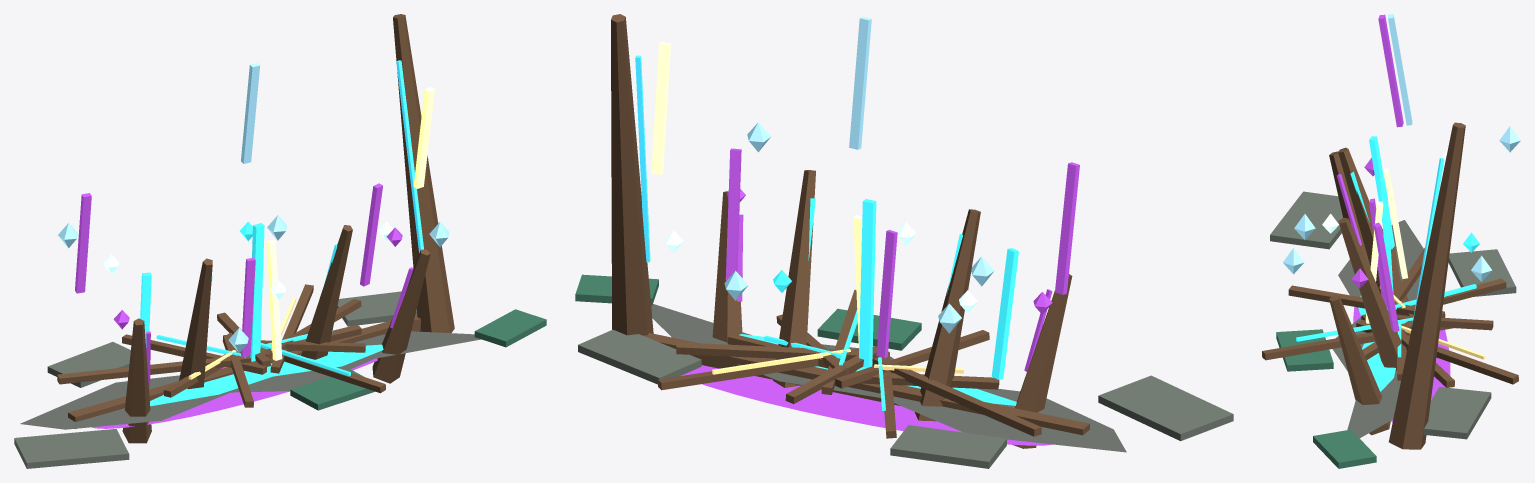
The model's file is memory_wastes_worldroot_rift.glb.
3 views of the same model, side by side, from view 1: azimuth 30°, elevation 25°; view 2: azimuth 150°, elevation 25°; view 3: azimuth 270°, elevation 25° (orthographic). The views are drawn at different scales.
Parts seen in each view (by area): view 1: PREFAB_memory_wastes_worldroot_rift_00_WASTE_RootRiftsAndSto, PREFAB_memory_wastes_worldroot_rift_12_WASTE_RootRiftsAndSto, PREFAB_memory_wastes_worldroot_rift_02_WASTE_RootRiftsAndSto, PREFAB_memory_wastes_worldroot_rift_20_WASTE_RootRiftsAndSto, PREFAB_memory_wastes_worldroot_rift_14_WASTE_RootRiftsAndSto, PREFAB_memory_wastes_worldroot_rift_18_WASTE_RootRiftsAndSto, PREFAB_memory_wastes_worldroot_rift_01_WASTE_RootRiftsAndSto, PREFAB_memory_wastes_worldroot_rift_16_WASTE_RootRiftsAndSto, PREFAB_memory_wastes_worldroot_rift_08_WASTE_RootRiftsAndSto, PREFAB_memory_wastes_worldroot_rift_03_WASTE_RootRiftsAndSto, PREFAB_memory_wastes_worldroot_rift_04_WASTE_RootRiftsAndSto, PREFAB_memory_wastes_worldroot_rift_06_WASTE_RootRiftsAndSto (+18 smaller); view 2: PREFAB_memory_wastes_worldroot_rift_12_WASTE_RootRiftsAndSto, PREFAB_memory_wastes_worldroot_rift_00_WASTE_RootRiftsAndSto, PREFAB_memory_wastes_worldroot_rift_02_WASTE_RootRiftsAndSto, PREFAB_memory_wastes_worldroot_rift_07_WASTE_RootRiftsAndSto, PREFAB_memory_wastes_worldroot_rift_16_WASTE_RootRiftsAndSto, PREFAB_memory_wastes_worldroot_rift_05_WASTE_RootRiftsAndSto, PREFAB_memory_wastes_worldroot_rift_18_WASTE_RootRiftsAndSto, PREFAB_memory_wastes_worldroot_rift_08_WASTE_RootRiftsAndSto, PREFAB_memory_wastes_worldroot_rift_03_WASTE_RootRiftsAndSto, PREFAB_memory_wastes_worldroot_rift_14_WASTE_RootRiftsAndSto, PREFAB_memory_wastes_worldroot_rift_09_WASTE_RootRiftsAndSto, PREFAB_memory_wastes_worldroot_rift_30_WASTE_RootRiftsAndSto (+20 smaller); view 3: PREFAB_memory_wastes_worldroot_rift_12_WASTE_RootRiftsAndSto, PREFAB_memory_wastes_worldroot_rift_00_WASTE_RootRiftsAndSto, PREFAB_memory_wastes_worldroot_rift_18_WASTE_RootRiftsAndSto, PREFAB_memory_wastes_worldroot_rift_05_WASTE_RootRiftsAndSto, PREFAB_memory_wastes_worldroot_rift_02_WASTE_RootRiftsAndSto, PREFAB_memory_wastes_worldroot_rift_20_WASTE_RootRiftsAndSto, PREFAB_memory_wastes_worldroot_rift_03_WASTE_RootRiftsAndSto, PREFAB_memory_wastes_worldroot_rift_16_WASTE_RootRiftsAndSto, PREFAB_memory_wastes_worldroot_rift_06_WASTE_RootRiftsAndSto, PREFAB_memory_wastes_worldroot_rift_04_WASTE_RootRiftsAndSto, PREFAB_memory_wastes_worldroot_rift_25_WASTE_RootRiftsAndSto, PREFAB_memory_wastes_worldroot_rift_34_WASTE_RootRiftsAndSto (+24 smaller).
Part boxes in pixels (bbox=[...]): PREFAB_memory_wastes_worldroot_rift_00_WASTE_RootRiftsAndSto: bbox=[20, 331, 480, 429]; PREFAB_memory_wastes_worldroot_rift_12_WASTE_RootRiftsAndSto: bbox=[393, 14, 454, 333]; PREFAB_memory_wastes_worldroot_rift_02_WASTE_RootRiftsAndSto: bbox=[14, 429, 129, 468]; PREFAB_memory_wastes_worldroot_rift_20_WASTE_RootRiftsAndSto: bbox=[372, 249, 430, 383]; PREFAB_memory_wastes_worldroot_rift_14_WASTE_RootRiftsAndSto: bbox=[122, 318, 151, 443]; PREFAB_memory_wastes_worldroot_rift_18_WASTE_RootRiftsAndSto: bbox=[301, 225, 352, 359]; PREFAB_memory_wastes_worldroot_rift_01_WASTE_RootRiftsAndSto: bbox=[150, 344, 383, 406]; PREFAB_memory_wastes_worldroot_rift_16_WASTE_RootRiftsAndSto: bbox=[179, 258, 212, 389]; PREFAB_memory_wastes_worldroot_rift_08_WASTE_RootRiftsAndSto: bbox=[68, 314, 420, 428]; PREFAB_memory_wastes_worldroot_rift_03_WASTE_RootRiftsAndSto: bbox=[47, 342, 130, 387]; PREFAB_memory_wastes_worldroot_rift_04_WASTE_RootRiftsAndSto: bbox=[290, 369, 374, 410]; PREFAB_memory_wastes_worldroot_rift_06_WASTE_RootRiftsAndSto: bbox=[474, 309, 546, 347]; PREFAB_memory_wastes_worldroot_rift_12_WASTE_RootRiftsAndSto: bbox=[611, 14, 653, 335]; PREFAB_memory_wastes_worldroot_rift_00_WASTE_RootRiftsAndSto: bbox=[651, 304, 1126, 452]; PREFAB_memory_wastes_worldroot_rift_02_WASTE_RootRiftsAndSto: bbox=[1098, 375, 1233, 441]; PREFAB_memory_wastes_worldroot_rift_07_WASTE_RootRiftsAndSto: bbox=[681, 365, 1052, 445]; PREFAB_memory_wastes_worldroot_rift_16_WASTE_RootRiftsAndSto: bbox=[915, 209, 980, 421]; PREFAB_memory_wastes_worldroot_rift_05_WASTE_RootRiftsAndSto: bbox=[578, 329, 701, 384]; PREFAB_memory_wastes_worldroot_rift_18_WASTE_RootRiftsAndSto: bbox=[773, 170, 815, 387]; PREFAB_memory_wastes_worldroot_rift_08_WASTE_RootRiftsAndSto: bbox=[643, 333, 1089, 435]; PREFAB_memory_wastes_worldroot_rift_03_WASTE_RootRiftsAndSto: bbox=[890, 425, 1006, 468]; PREFAB_memory_wastes_worldroot_rift_14_WASTE_RootRiftsAndSto: bbox=[1012, 274, 1072, 448]; PREFAB_memory_wastes_worldroot_rift_09_WASTE_RootRiftsAndSto: bbox=[859, 199, 876, 367]; PREFAB_memory_wastes_worldroot_rift_30_WASTE_RootRiftsAndSto: bbox=[872, 357, 1041, 436]; PREFAB_memory_wastes_worldroot_rift_12_WASTE_RootRiftsAndSto: bbox=[1388, 122, 1465, 449]; PREFAB_memory_wastes_worldroot_rift_00_WASTE_RootRiftsAndSto: bbox=[1332, 220, 1423, 438]; PREFAB_memory_wastes_worldroot_rift_18_WASTE_RootRiftsAndSto: bbox=[1338, 218, 1403, 370]; PREFAB_memory_wastes_worldroot_rift_05_WASTE_RootRiftsAndSto: bbox=[1423, 387, 1491, 439]; PREFAB_memory_wastes_worldroot_rift_02_WASTE_RootRiftsAndSto: bbox=[1270, 191, 1342, 249]; PREFAB_memory_wastes_worldroot_rift_20_WASTE_RootRiftsAndSto: bbox=[1329, 295, 1390, 435]; PREFAB_memory_wastes_worldroot_rift_03_WASTE_RootRiftsAndSto: bbox=[1448, 249, 1516, 296]; PREFAB_memory_wastes_worldroot_rift_16_WASTE_RootRiftsAndSto: bbox=[1338, 147, 1408, 302]; PREFAB_memory_wastes_worldroot_rift_06_WASTE_RootRiftsAndSto: bbox=[1313, 429, 1376, 468]; PREFAB_memory_wastes_worldroot_rift_04_WASTE_RootRiftsAndSto: bbox=[1276, 329, 1333, 371]; PREFAB_memory_wastes_worldroot_rift_25_WASTE_RootRiftsAndSto: bbox=[1356, 319, 1518, 384]; PREFAB_memory_wastes_worldroot_rift_34_WASTE_RootRiftsAndSto: bbox=[1262, 327, 1453, 360].
Size of the model in its own units: 11.26 by 6.8 by 4.54.
